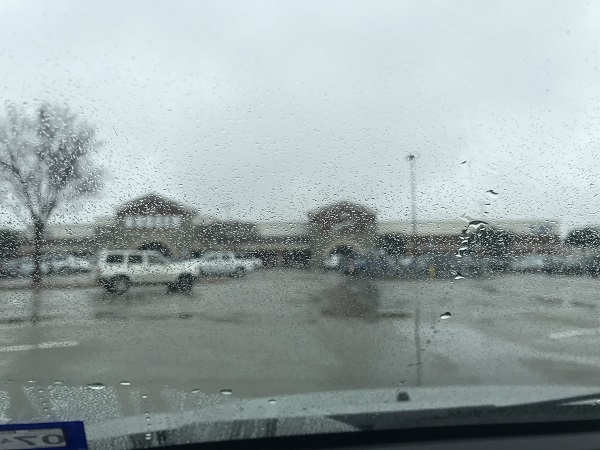car: (93, 249, 193, 294)
truck: (189, 250, 254, 278)
